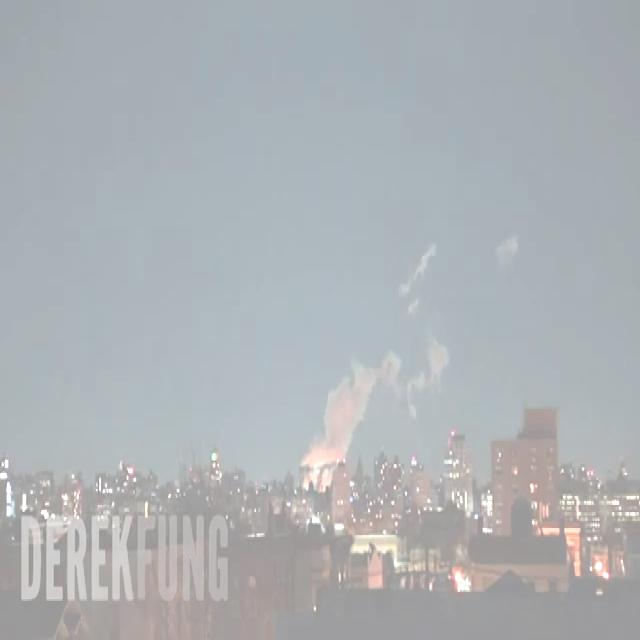smoke: (301, 334, 448, 489)
